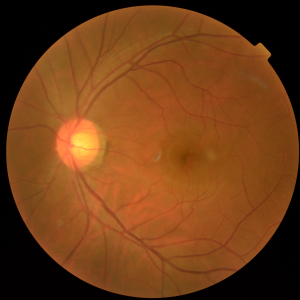healthy_eye: (32, 87, 230, 211)
